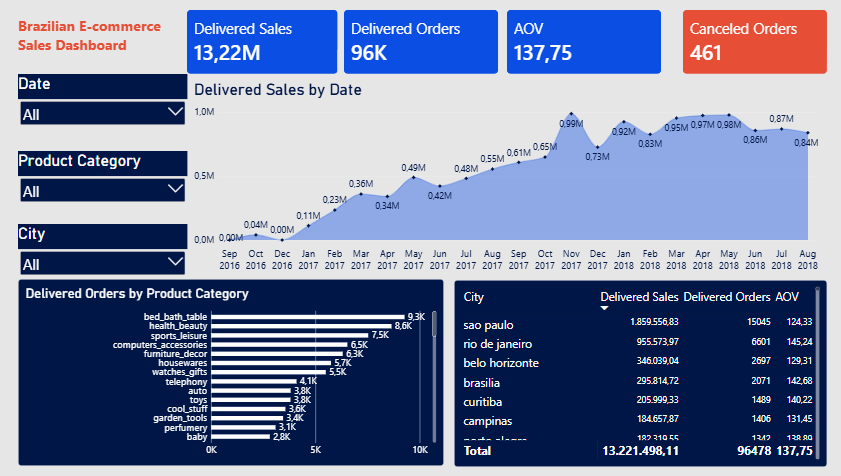

The page's visual inventory and layout, read from the dashboard file:
{"tool":"powerbi","page":{"name":"Page 1","canvas":[1920,1080],"ordinal":0},"visuals":[{"type":"cardVisual","title":"Total Sales","fields":{"Data":["measure.total sales delivered"]},"box":[427.5,22.5,342.5,145],"z":0},{"type":"cardVisual","fields":{"Data":["measure.totel order delivered"]},"box":[785,22.5,350,145],"z":1000},{"type":"cardVisual","fields":{"Data":["measure.avg. order value 2"]},"box":[1155,22.5,350,145],"z":2000},{"type":"cardVisual","fields":{"Data":["measure.canceled order"]},"box":[1555,22.5,327,145],"z":3000},{"type":"lineChart","title":"Delivered Sales by Date","fields":{"Category":["dim_date.month_year"],"Y":["measure.total sales delivered"]},"box":[427.3,168,1455,467.5],"z":4000},{"type":"clusteredBarChart","fields":{"Category":["dim_product.product_catergory_english"],"Y":["measure.totel order delivered"]},"box":[42.5,635,967.5,425],"z":5000},{"type":"pivotTable","fields":{"Rows":["dim_customer.customer_city"],"Values":["measure.total sales delivered","measure.totel order delivered","measure.avg. order value 2"]},"box":[1033.2,635.7,848.3,425.2],"z":6000},{"type":"slicer","title":"Date","fields":{"Values":["dim_date.year","dim_date.month_year","dim_date.Date"]},"box":[42.5,167.5,385,115],"z":7000},{"type":"slicer","title":"Product Category","fields":{"Values":["dim_product.product_catergory_english"]},"box":[42.5,342.5,385,115],"z":8000},{"type":"slicer","title":"City","fields":{"Values":["dim_customer.customer_city"]},"box":[42.5,510,385,125],"z":9000},{"type":"textbox","box":[42.5,36.1,367.8,165.8],"z":9001}]}

Visuals, with their boxes in screenshot pixels (x1, y1, x2, y2), scaled from the page's 1920x1080 canvas onto the 841x476 screenshot:
"Total Sales" cardVisual: [187, 10, 337, 74]
cardVisual - measure.totel order delivered: [344, 10, 497, 74]
cardVisual - measure.avg. order value 2: [506, 10, 659, 74]
cardVisual - measure.canceled order: [681, 10, 824, 74]
"Delivered Sales by Date" lineChart: [187, 74, 824, 280]
clusteredBarChart - dim_product.product_catergory_english x measure.totel order delivered: [19, 280, 442, 467]
pivotTable - dim_customer.customer_city x measure.total sales delivered: [453, 280, 824, 468]
"Date" slicer: [19, 74, 187, 125]
"Product Category" slicer: [19, 151, 187, 202]
"City" slicer: [19, 225, 187, 280]
textbox: [19, 16, 180, 89]
